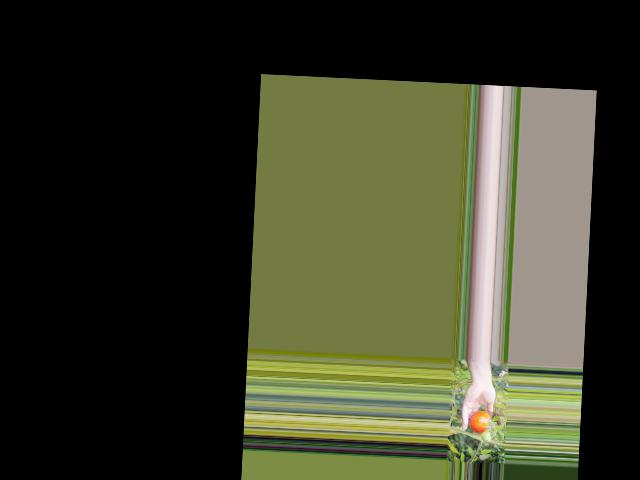tomato: (469, 409, 490, 434)
